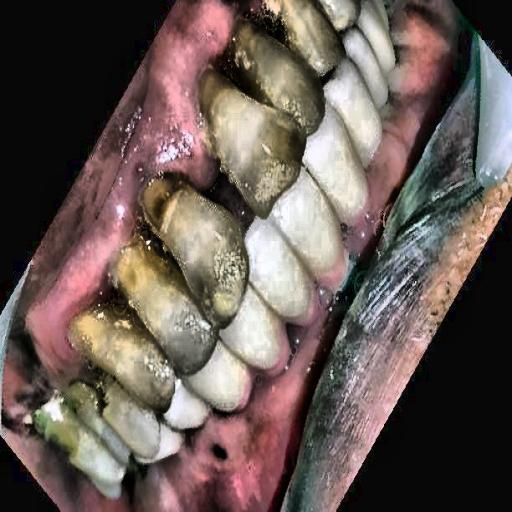Calculus: (61, 161, 197, 394), (179, 0, 300, 237), (12, 364, 126, 472)
